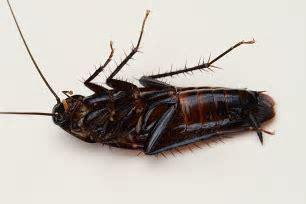cockroach: (0, 10, 275, 162)
